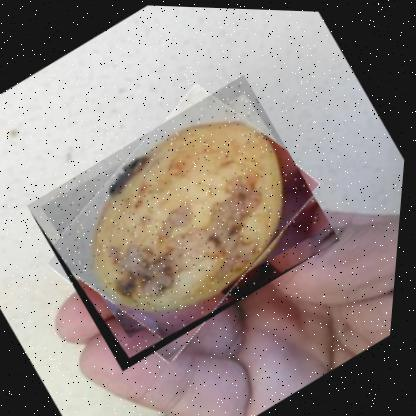guava_rotten: (18, 66, 353, 377)
